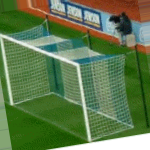goals: (1, 24, 134, 143)
